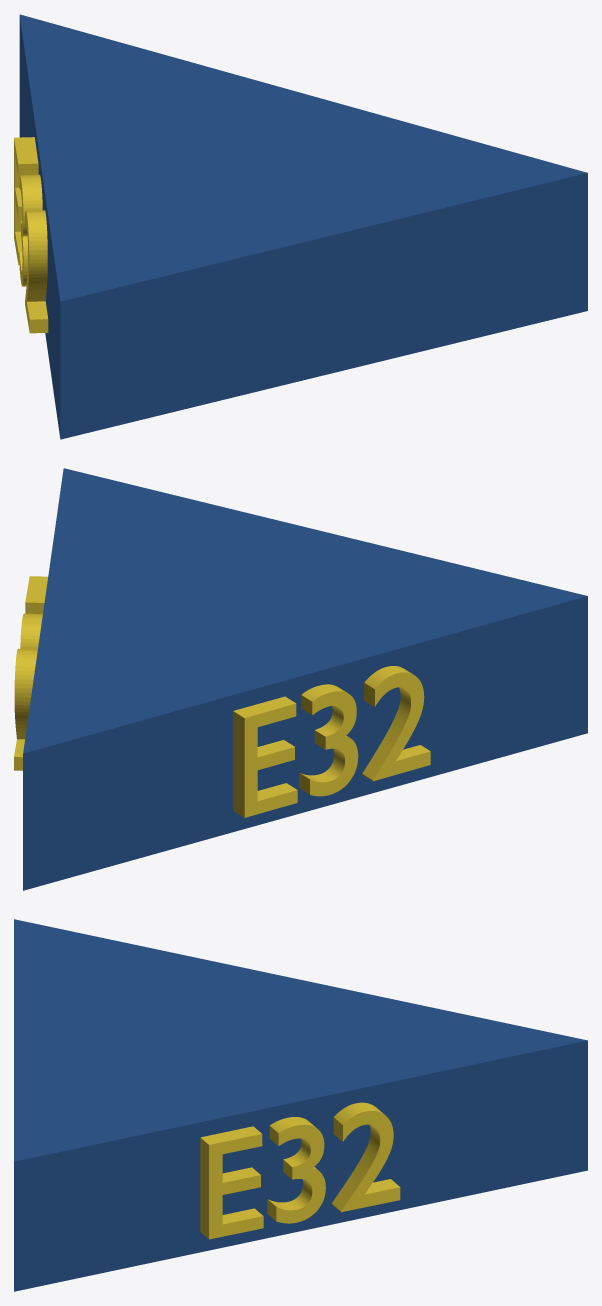
The picture shows the model from 3 angles, top to bottom: view 1: azimuth 30°, elevation 25°; view 2: azimuth 150°, elevation 25°; view 3: azimuth 270°, elevation 25°; orthographic projection. The views are drawn at different scales.
Parts seen in each view (by area): view 1: Cube, Text.001; view 2: Cube, Text.001, Text; view 3: Cube, Text.
Part boxes in pixels (bbox=[...]): Cube: bbox=[19, 14, 587, 439]; Text.001: bbox=[14, 137, 48, 333]; Cube: bbox=[23, 468, 587, 890]; Text.001: bbox=[233, 666, 430, 817]; Text: bbox=[14, 576, 47, 770]; Cube: bbox=[14, 919, 587, 1291]; Text: bbox=[200, 1102, 400, 1239].
Bounding box in the file's own units: 63.36 × 15.84 × 63.36.
